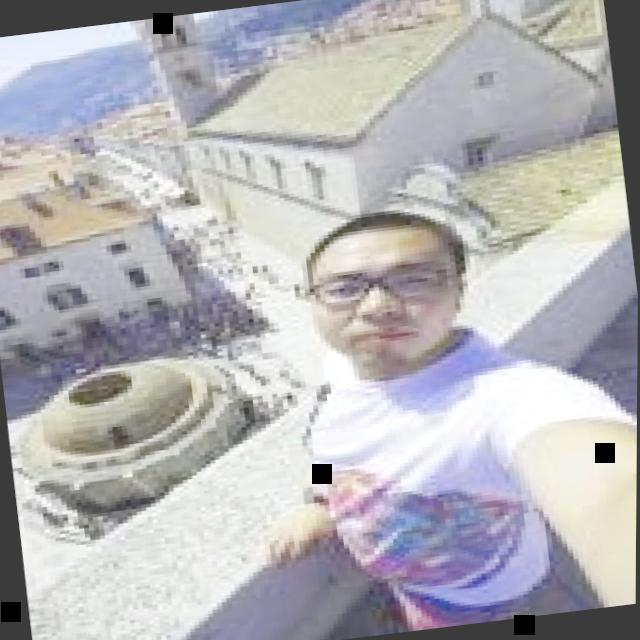Fall-Detected: (0, 162, 639, 640)
